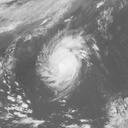cyclone: (35, 29, 90, 95)
